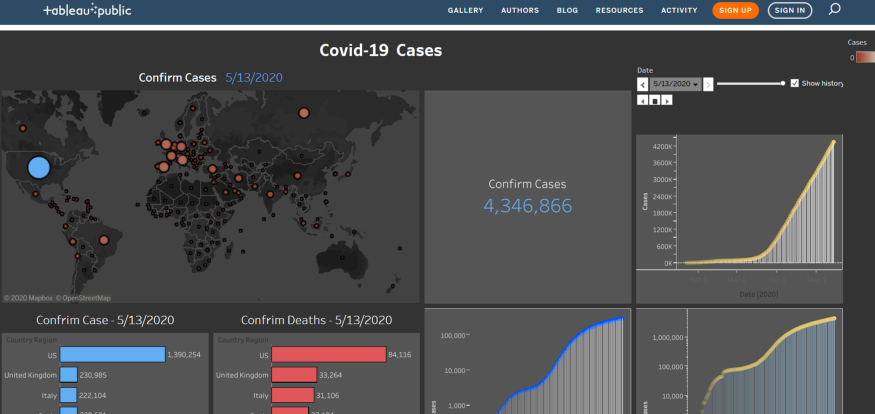

This screenshot's page, from the dashboard's own definition file:
{"tool":"tableau","page":{"name":"Final","canvas":[1600,900],"ordinal":0},"visuals":[{"type":"title","box":[8,8,1455,58]},{"type":"legend","title":"Map of CC","param":"[federated.1frj12j15jz7bx1erz0ft1w1avnv].[sum:Cases:qk]","box":[1463,8,129,73]},{"type":"worksheet","title":"Map of CC","mark":"Automatic","box":[8,66,727.5,413]},{"type":"worksheet","title":"Ban","mark":"Automatic","box":[735.5,66,363.7,413]},{"type":"currpage","title":"Map of CC","box":[1099.2,66,363.8,75]},{"type":"worksheet","title":"Confirm Case","mark":"Automatic","rows":["Cases","Cases"],"cols":["Date"],"box":[1099.2,141,363.8,338]},{"type":"worksheet","title":"Confrim Case","mark":"Automatic","rows":["Country_Region"],"cols":["Cases"],"box":[8,479,363.7,413]},{"type":"worksheet","title":"Confrim Deaths","mark":"Automatic","rows":["Country_Region"],"cols":["Cases"],"box":[371.7,479,363.7,413]},{"type":"worksheet","title":"Confirm Death","mark":"Automatic","rows":["Cases","Cases"],"cols":["Date"],"box":[735.5,479,363.7,413]},{"type":"worksheet","title":"Confirm death","mark":"Automatic","rows":["Cases","Cases"],"cols":["Date"],"box":[1099.2,479,363.8,413]}]}

Visuals, with their boxes on the page's 1600x900 design canvas (x1, y1, x2, y2). These are canvas units, not pixel positions in the 875x414 screenshot, which may show the page scaled, cropped or inside an application window:
title: <box>8,8,1463,66</box>
"Map of CC" legend: <box>1463,8,1592,81</box>
"Map of CC" worksheet: <box>8,66,736,479</box>
"Ban" worksheet: <box>736,66,1099,479</box>
"Map of CC" currpage: <box>1099,66,1463,141</box>
"Confirm Case" worksheet: <box>1099,141,1463,479</box>
"Confrim Case" worksheet: <box>8,479,372,892</box>
"Confrim Deaths" worksheet: <box>372,479,735,892</box>
"Confirm Death" worksheet: <box>736,479,1099,892</box>
"Confirm death" worksheet: <box>1099,479,1463,892</box>
